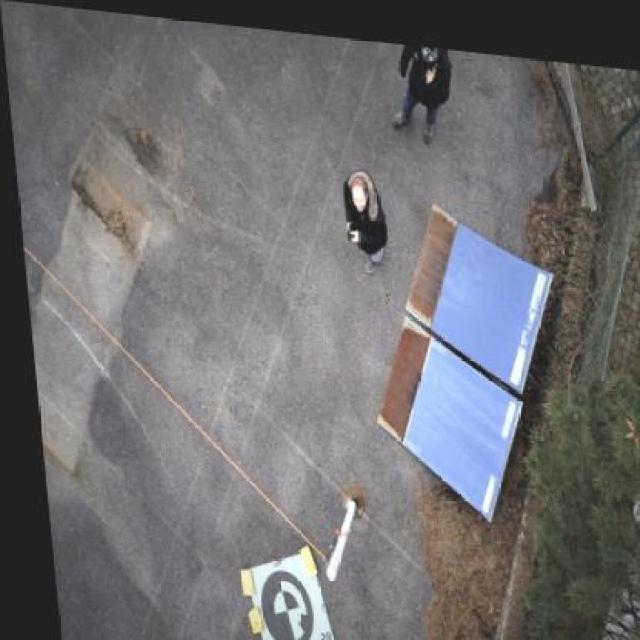Person: (380, 34, 465, 137), (332, 151, 398, 269)
